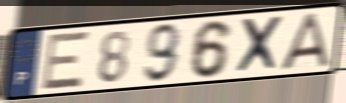6: (190, 18, 233, 80)
8: (96, 29, 132, 85)
9: (142, 22, 185, 85)
A: (279, 11, 331, 73)
E: (39, 29, 92, 93)
X: (234, 14, 286, 76)
